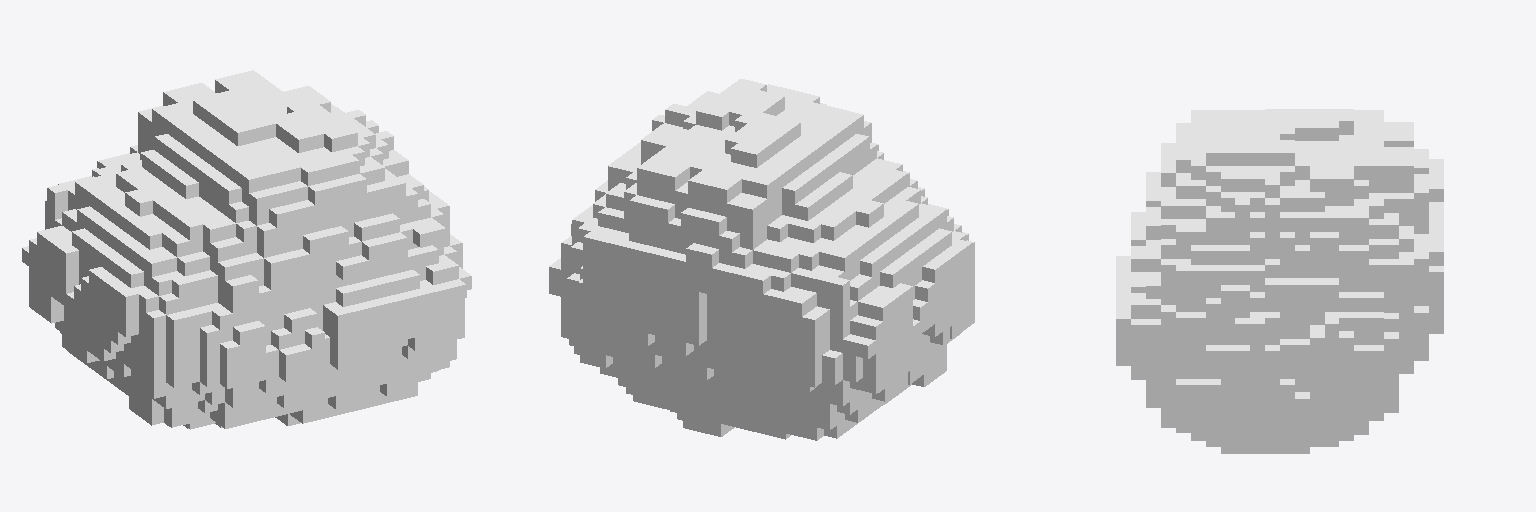
File: canopy_5.obj
The picture shows the model from 3 angles: view 1: azimuth 30°, elevation 25°; view 2: azimuth 150°, elevation 25°; view 3: azimuth 270°, elevation 25°; orthographic projection.
Visible parts, largest first — view 1: object 1; view 2: object 1; view 3: object 1.
Boxes of the visible parts, box(x1,y1,x2,y2) form: object 1: box(22, 70, 471, 429); object 1: box(549, 79, 974, 440); object 1: box(1116, 109, 1443, 453).
Bounding box in the file's own units: 7.8 × 6 × 6.6.